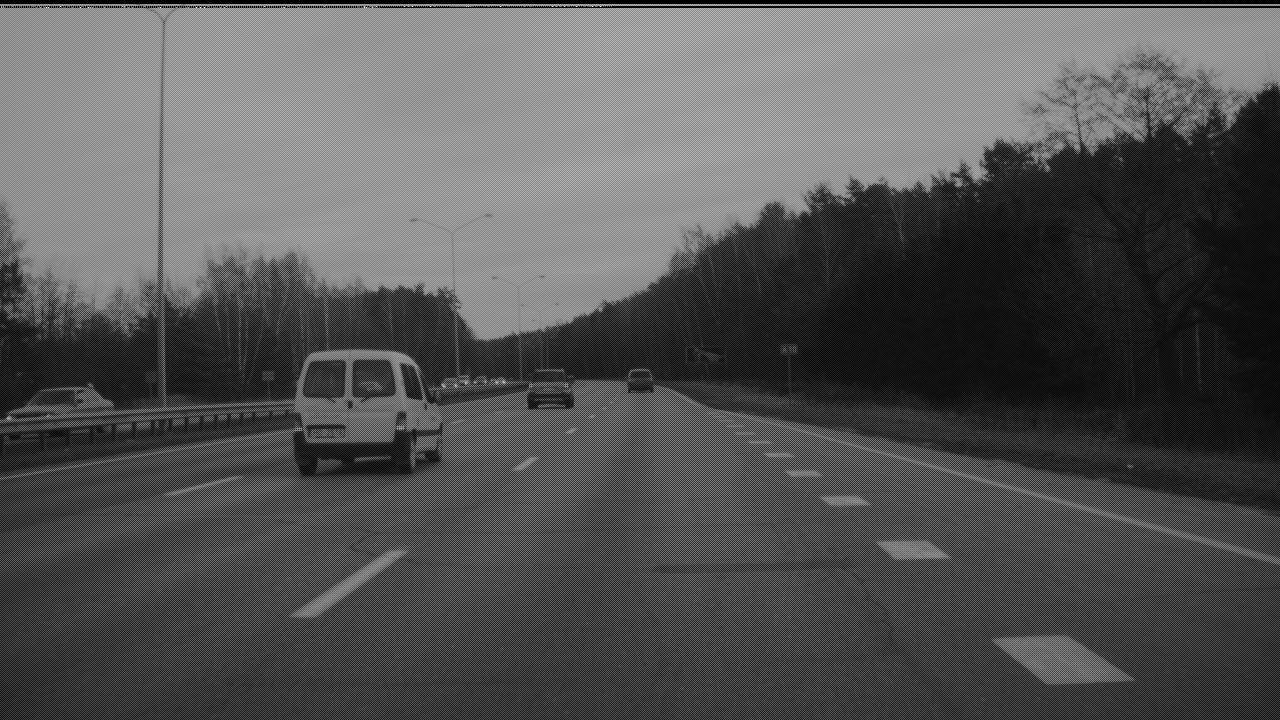pole: (158, 31, 168, 402), (452, 231, 462, 379)
